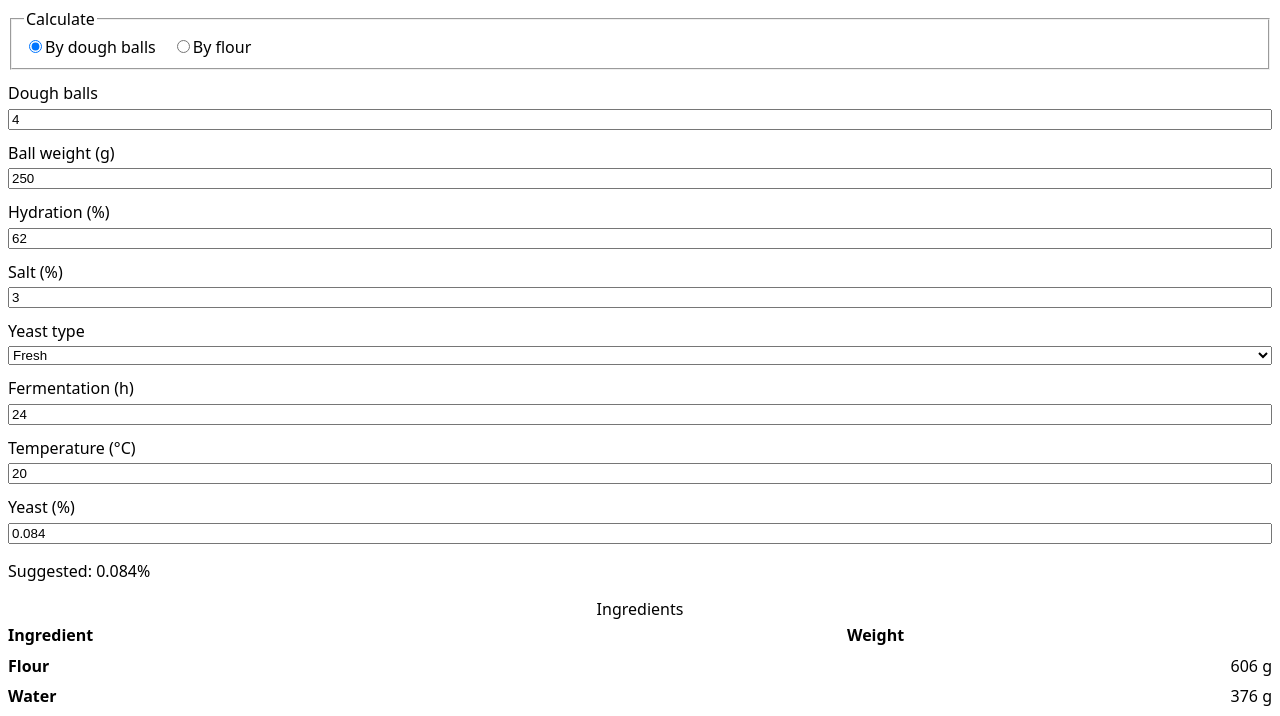
Calculator › yeast › keeps an overridden yeast when the fermentation changes, until the suggestion is used again
Replace the text in the number field labelled "Yeast (%)" with "0.2" at (640, 533), box [8, 522, 1272, 544]
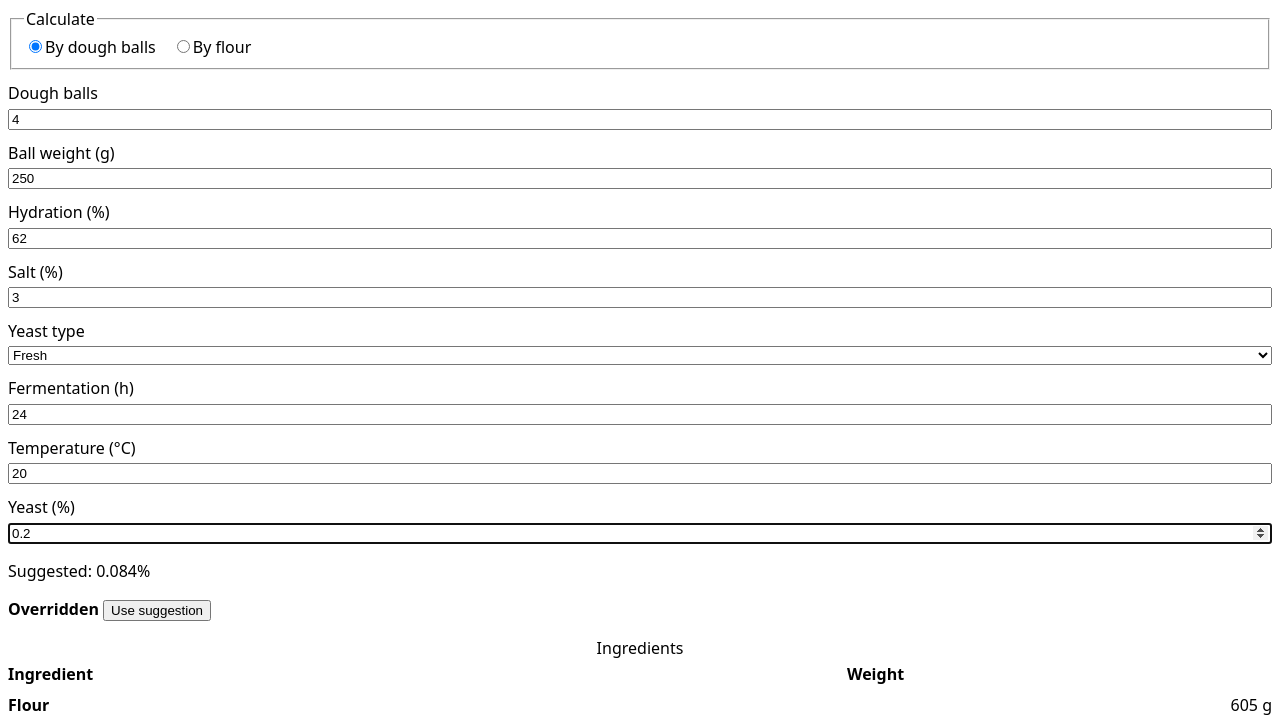
Result: the text "Overridden" is shown at [8, 598, 99, 620]
Replace the text in the number field labelled "Fermentation (h)" with "48" at (640, 414), box [8, 404, 1272, 425]
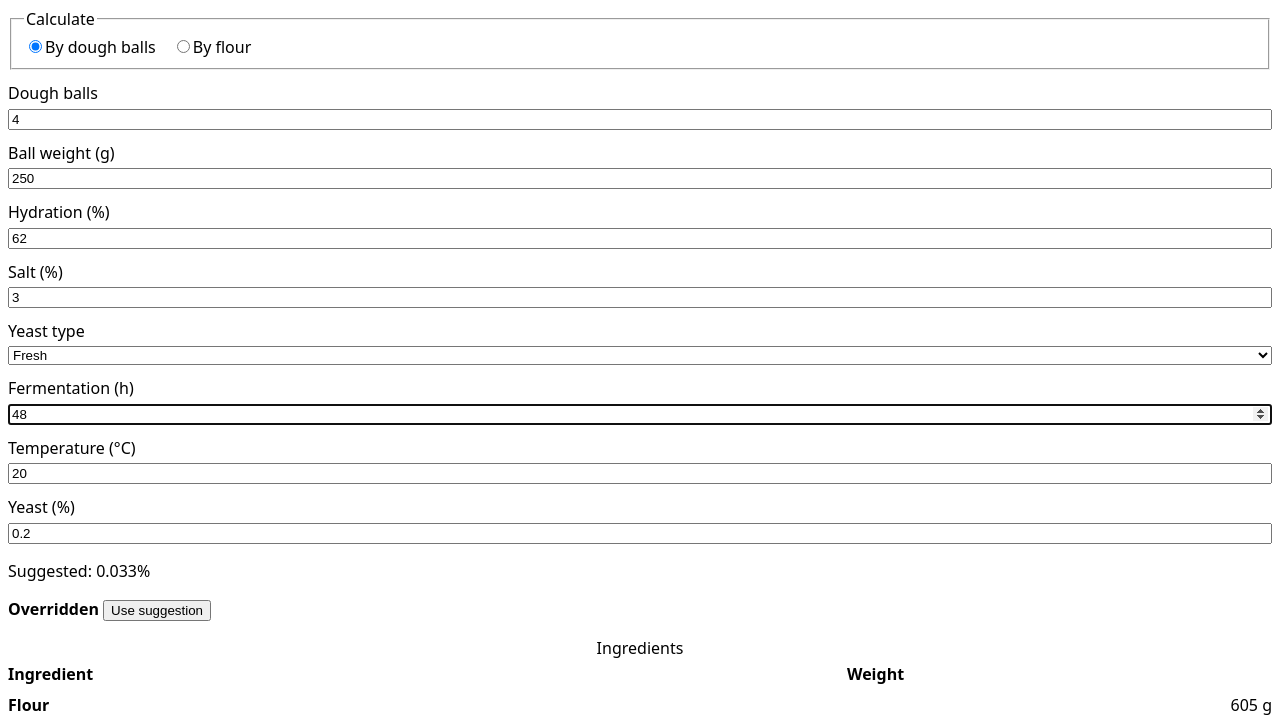
Click the button "Use suggestion" at (157, 610), box [103, 600, 211, 621]
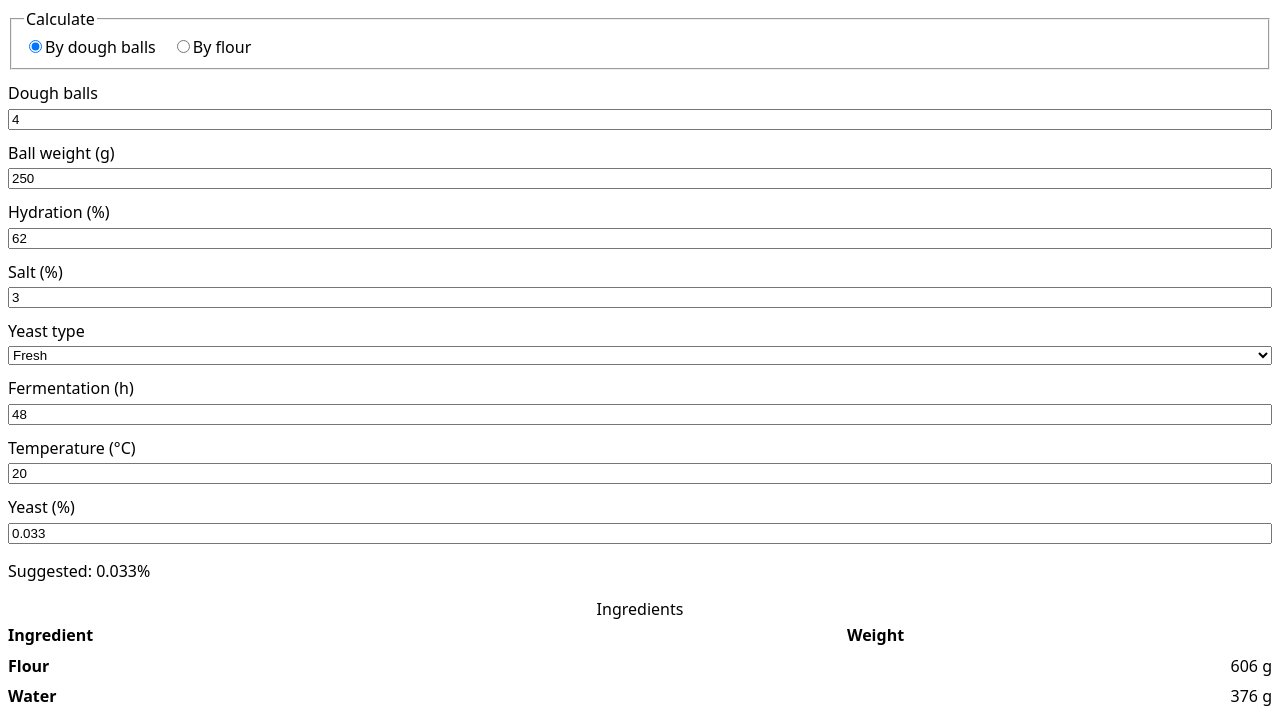
Result: the number field labelled "Yeast (%)" holds "0.033" at [8, 522, 1272, 544]
Result: the text "Overridden" is gone
Result: the button "Use suggestion" is gone
